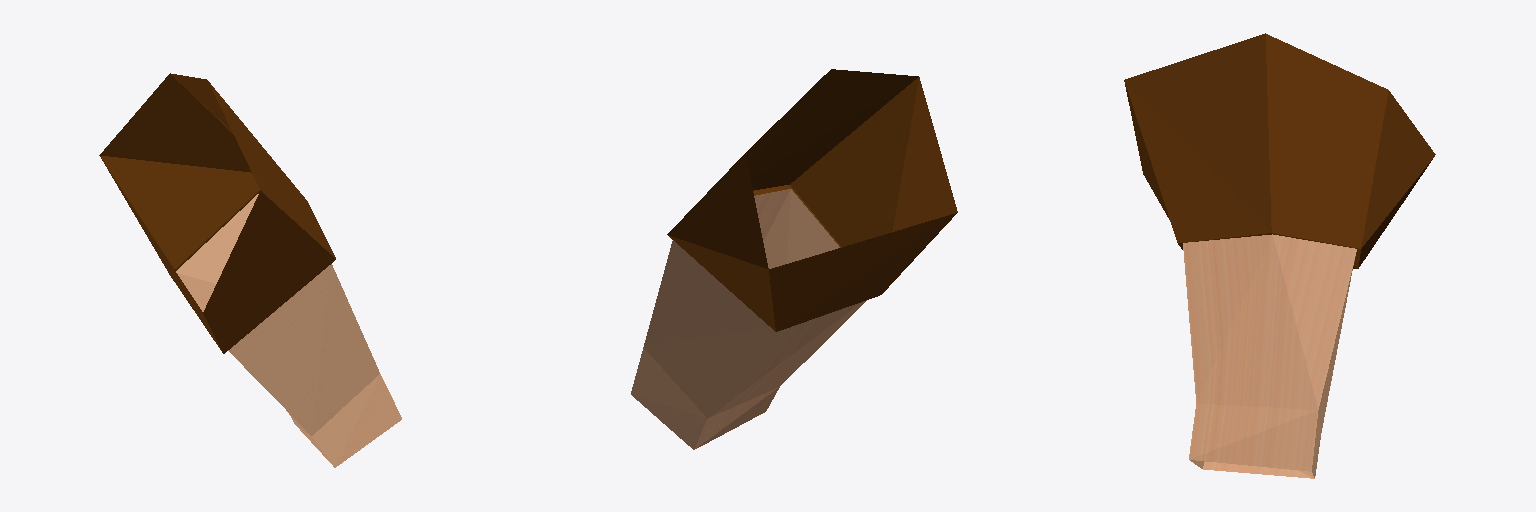
The picture shows the model from 3 angles: view 1: azimuth 30°, elevation 25°; view 2: azimuth 150°, elevation 25°; view 3: azimuth 270°, elevation 25°; orthographic projection.
Parts seen in each view (by area): view 1: Cube.010; view 2: Cube.010; view 3: Cube.010.
Boxes of the visible parts, x1=… form: Cube.010: x1=99, y1=73, x2=401, y2=467; Cube.010: x1=631, y1=69, x2=957, y2=449; Cube.010: x1=1124, y1=33, x2=1435, y2=478.
Size of the model in its own units: 0.4185 by 0.6428 by 0.4649.
2 materials, 2 textured.